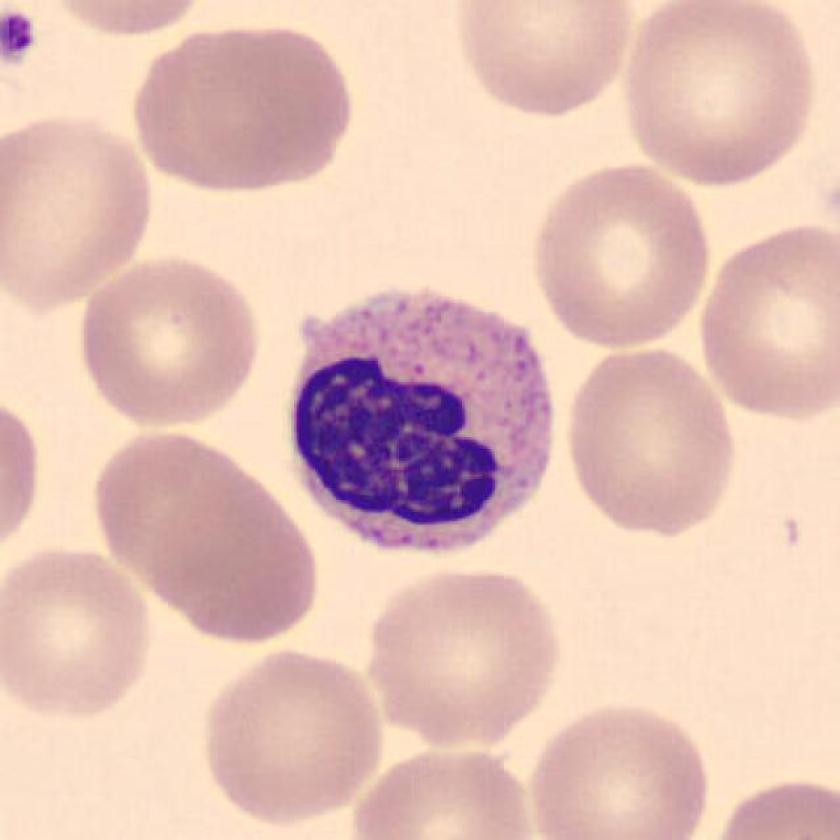neutrophil: (291, 289, 552, 553)
